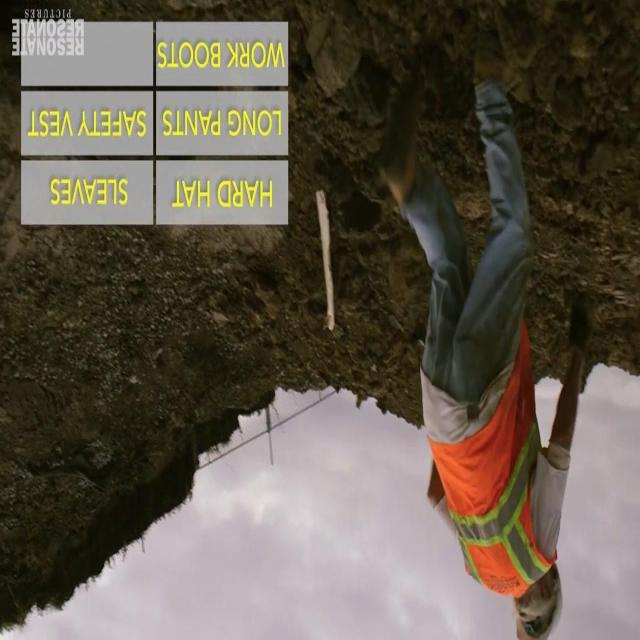jacket: (425, 358, 572, 602)
